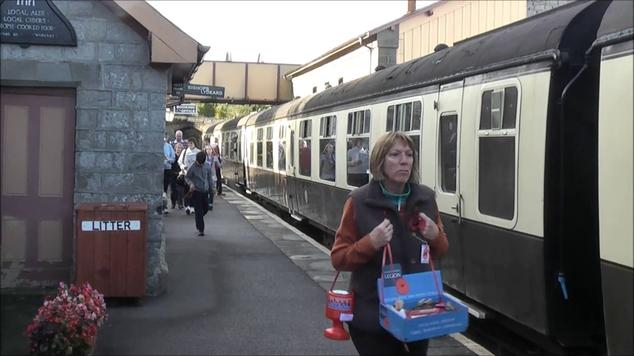stay: (184, 139, 218, 243)
walk: (184, 139, 218, 243)
